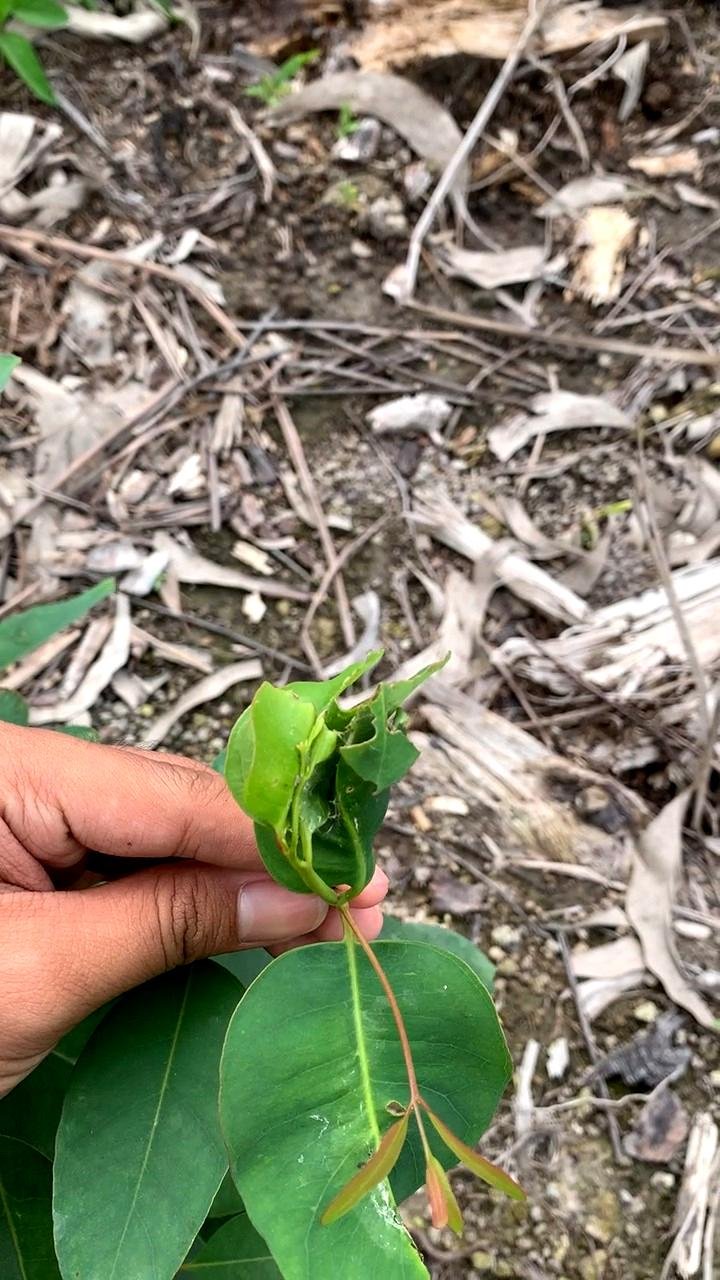Leaf Roller - Leaf: (230, 668, 435, 895)
